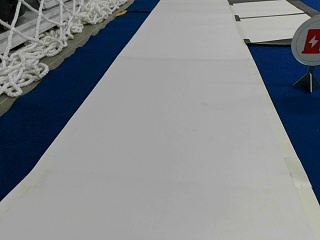battery: (292, 15, 320, 64)
